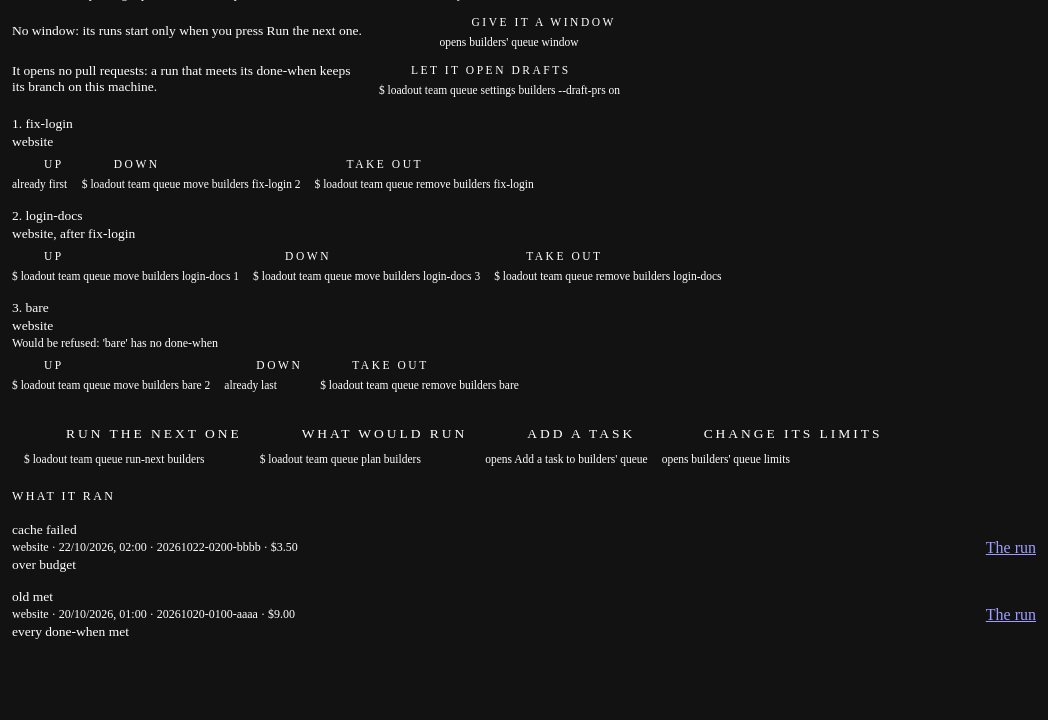
Test: QueuePanel done-when for a task that has none › offers to write them only for a task that has none
Click the button "Add a task" at (562, 434), box [485,419,639,449]
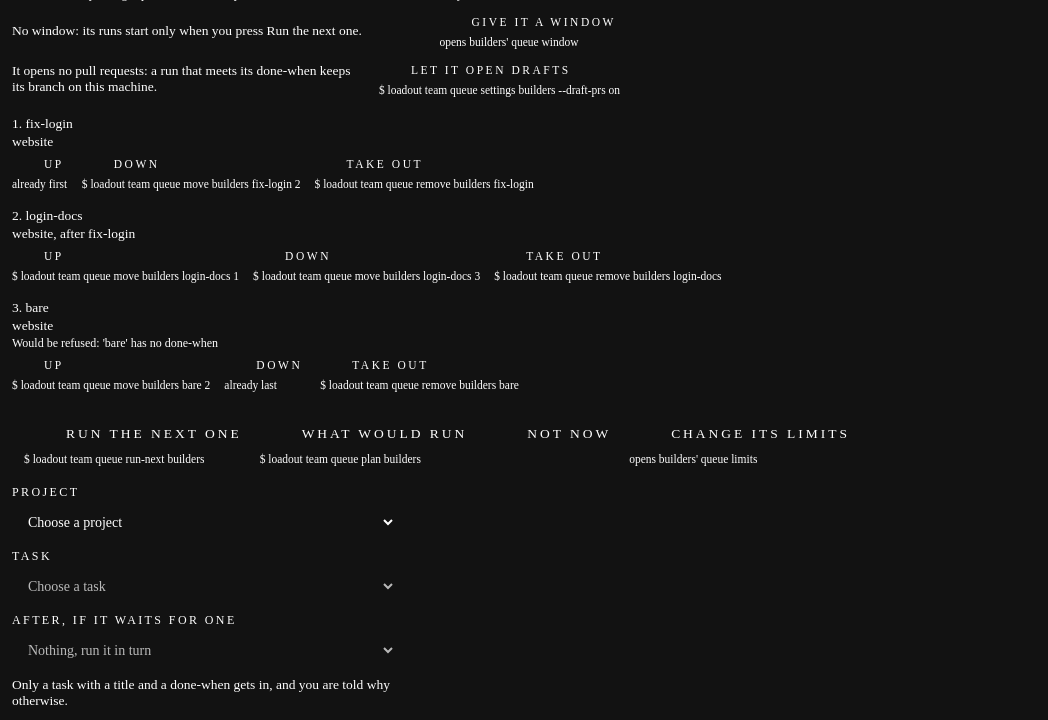
Select "website" in the dropdown labelled "Project" at (204, 522), box [12,506,396,539]
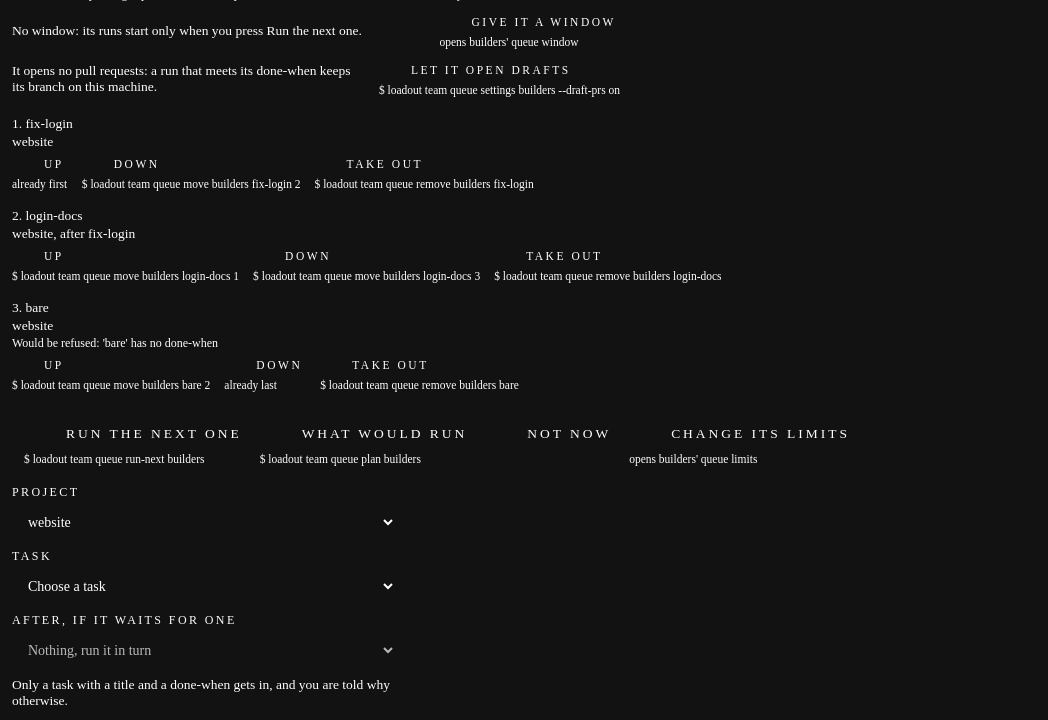
Select "fix-login · Fix the login" in the dropdown labelled "Task" at (204, 586), box [12,570,396,603]
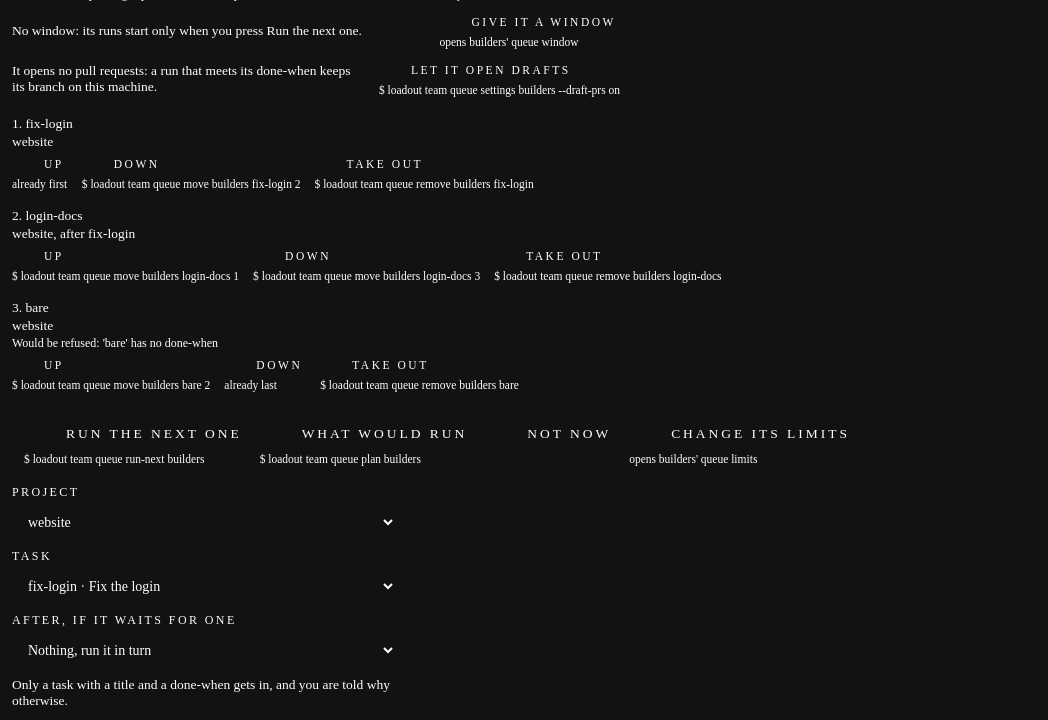
Select "vague · Make it better (no done-when yet)" in the dropdown labelled "Task" at (204, 586), box [12,570,396,603]
(page scrolled)
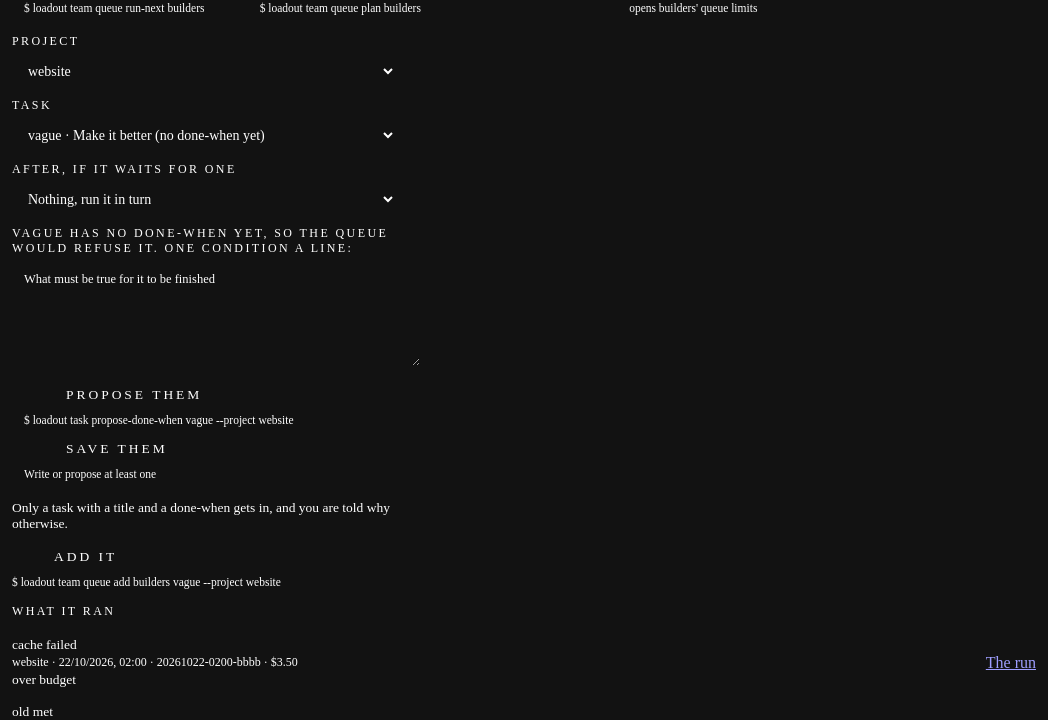
Check: the element named "Done-when for vague" shows "the queue would refuse it", box [12,226,388,255]
